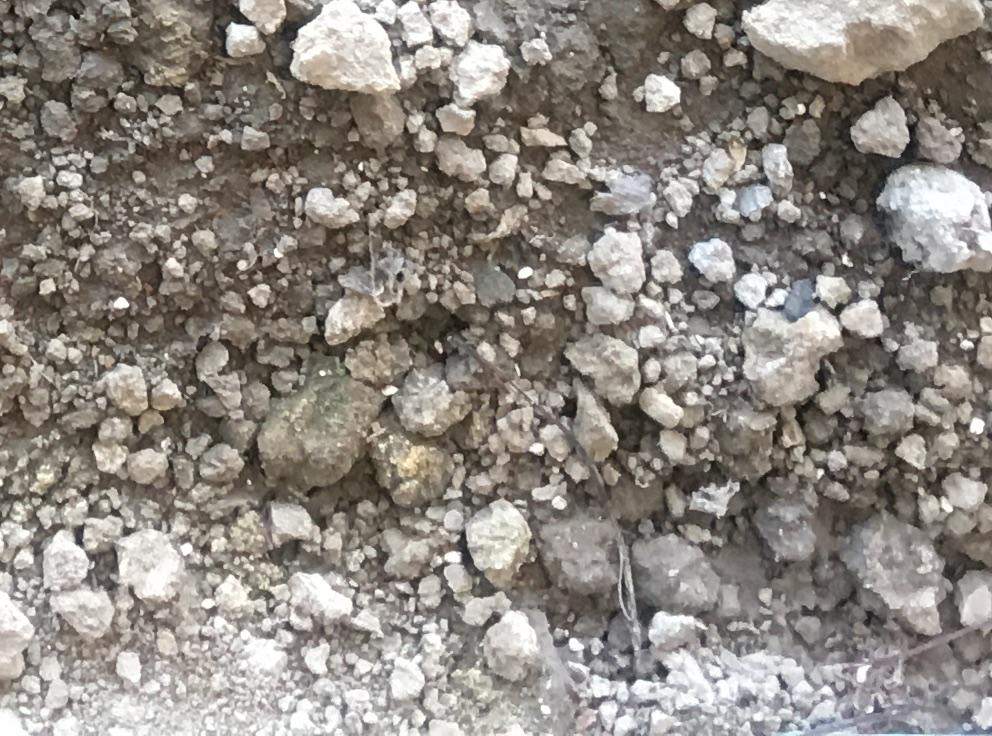block: (740, 1, 985, 90), (877, 150, 992, 288), (841, 506, 953, 645), (292, 1, 404, 104), (741, 299, 840, 415)
